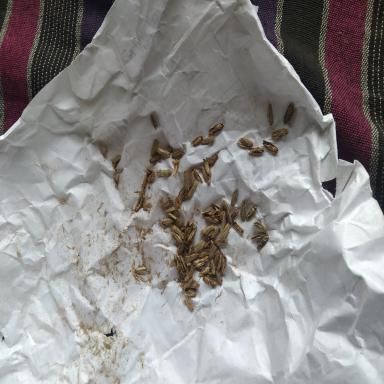pbw: (197, 164, 212, 186), (130, 193, 143, 216), (219, 222, 232, 242), (182, 272, 196, 290), (268, 128, 289, 140), (262, 140, 278, 154), (170, 223, 184, 239), (240, 199, 249, 222), (191, 168, 203, 185), (208, 123, 225, 135), (178, 254, 188, 274), (256, 235, 268, 251), (183, 170, 191, 194), (232, 218, 244, 234), (251, 221, 267, 233), (155, 146, 171, 158), (186, 181, 197, 198), (246, 206, 258, 221), (202, 156, 211, 176), (189, 134, 204, 146), (237, 137, 253, 148), (220, 252, 227, 277), (172, 157, 181, 176), (172, 147, 186, 159), (182, 296, 194, 310), (183, 225, 194, 240), (203, 275, 218, 286), (178, 236, 186, 256), (151, 138, 159, 158), (188, 264, 198, 280), (196, 255, 209, 267), (200, 224, 214, 235), (198, 266, 212, 277), (172, 230, 183, 244), (208, 154, 219, 168), (250, 232, 267, 241), (173, 253, 181, 272), (134, 266, 150, 275), (154, 169, 172, 177), (288, 108, 296, 126), (193, 240, 204, 253), (149, 154, 163, 164), (184, 254, 198, 264), (267, 103, 273, 126), (215, 270, 223, 287), (150, 114, 158, 131), (163, 199, 175, 210), (198, 249, 211, 259), (112, 153, 122, 166), (210, 226, 220, 239), (248, 147, 264, 155), (204, 216, 220, 224), (213, 249, 220, 267), (182, 289, 196, 298), (168, 212, 180, 222), (214, 239, 229, 247), (220, 210, 226, 230), (192, 260, 204, 270), (203, 238, 213, 250), (160, 217, 175, 225), (231, 189, 238, 206), (200, 210, 216, 217), (209, 245, 217, 259), (201, 136, 215, 144), (210, 258, 216, 276), (188, 281, 201, 289), (217, 253, 222, 272), (189, 170, 194, 189), (143, 170, 148, 188), (231, 208, 239, 219), (222, 199, 229, 211), (144, 164, 153, 173), (210, 203, 220, 211), (226, 210, 232, 223), (165, 206, 176, 212), (219, 203, 223, 219), (211, 214, 221, 220), (188, 243, 192, 256)
